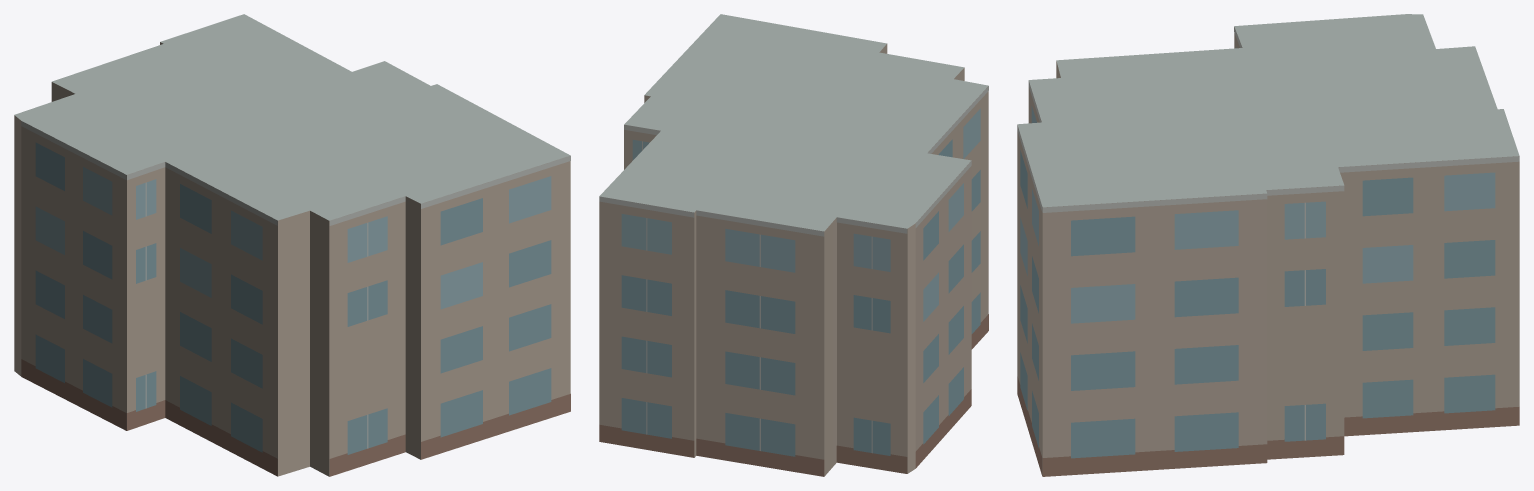
Rendered from survey-upis-32836697.glb.
3 renders of one model, left to right at view 1: azimuth 30°, elevation 25°; view 2: azimuth 150°, elevation 25°; view 3: azimuth 270°, elevation 25°, orthographic. The views are drawn at different scales.
Parts seen in each view (by area): view 1: survey-upis-32836697.tmp; view 2: survey-upis-32836697.tmp; view 3: survey-upis-32836697.tmp.
Boxes of the visible parts, x1,y1,x2,y2 form: survey-upis-32836697.tmp: (14,14,570,476); survey-upis-32836697.tmp: (599,14,988,476); survey-upis-32836697.tmp: (1017,14,1519,476).
Size of the model in its own units: 17.86 by 11.6 by 19.61.
